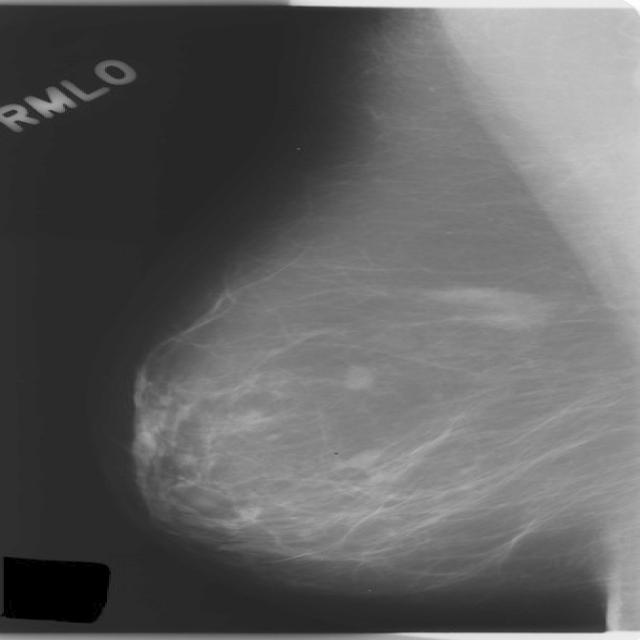tumour: (338, 361, 375, 391)
